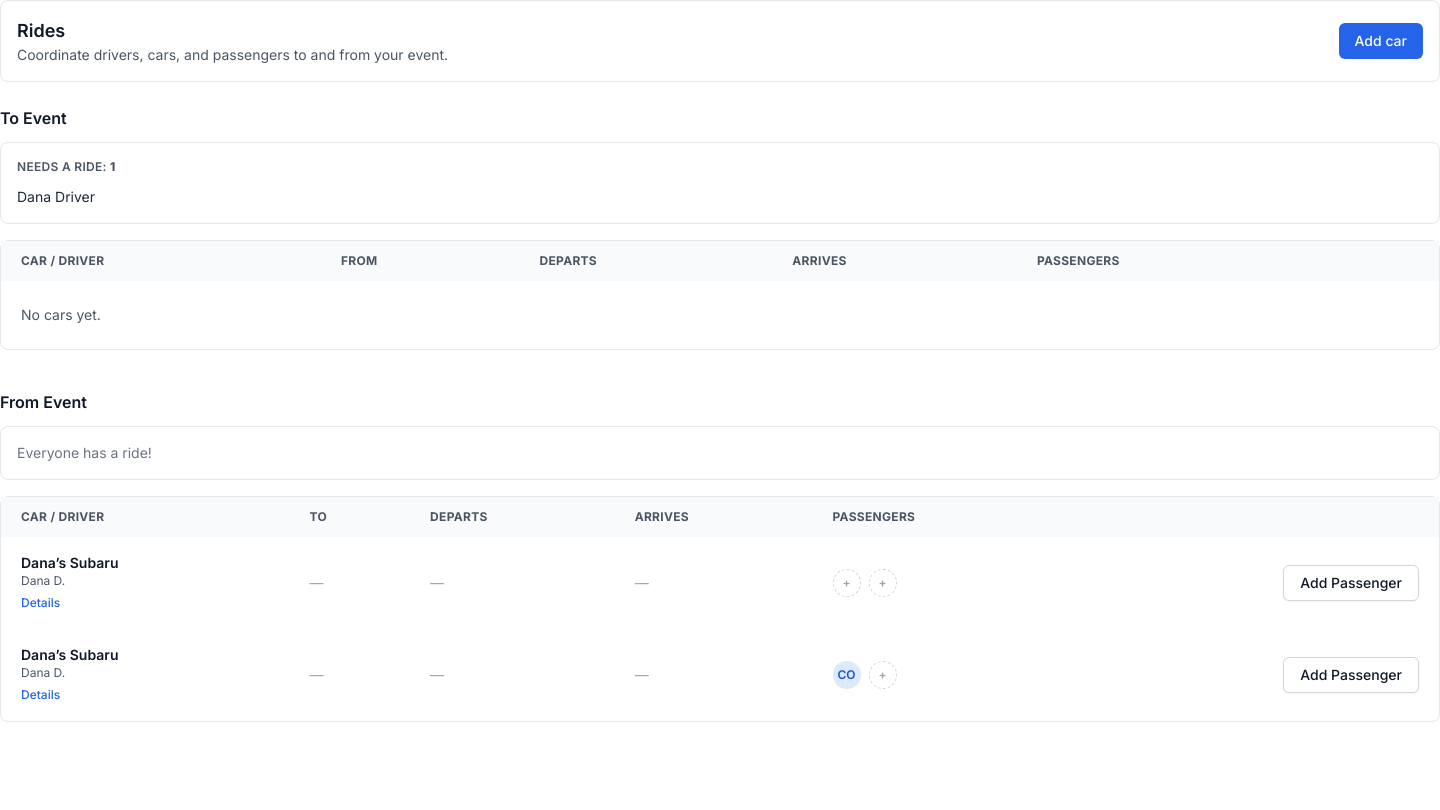
RidesBoard › shows upsert errors inside the add-car editor
The image size is (1440, 810).
expect the heading "To Event" is shown: met, box 0,106 -> 67,130
Click the button "Add car": point(1381, 41) 1338,23 -> 1423,59
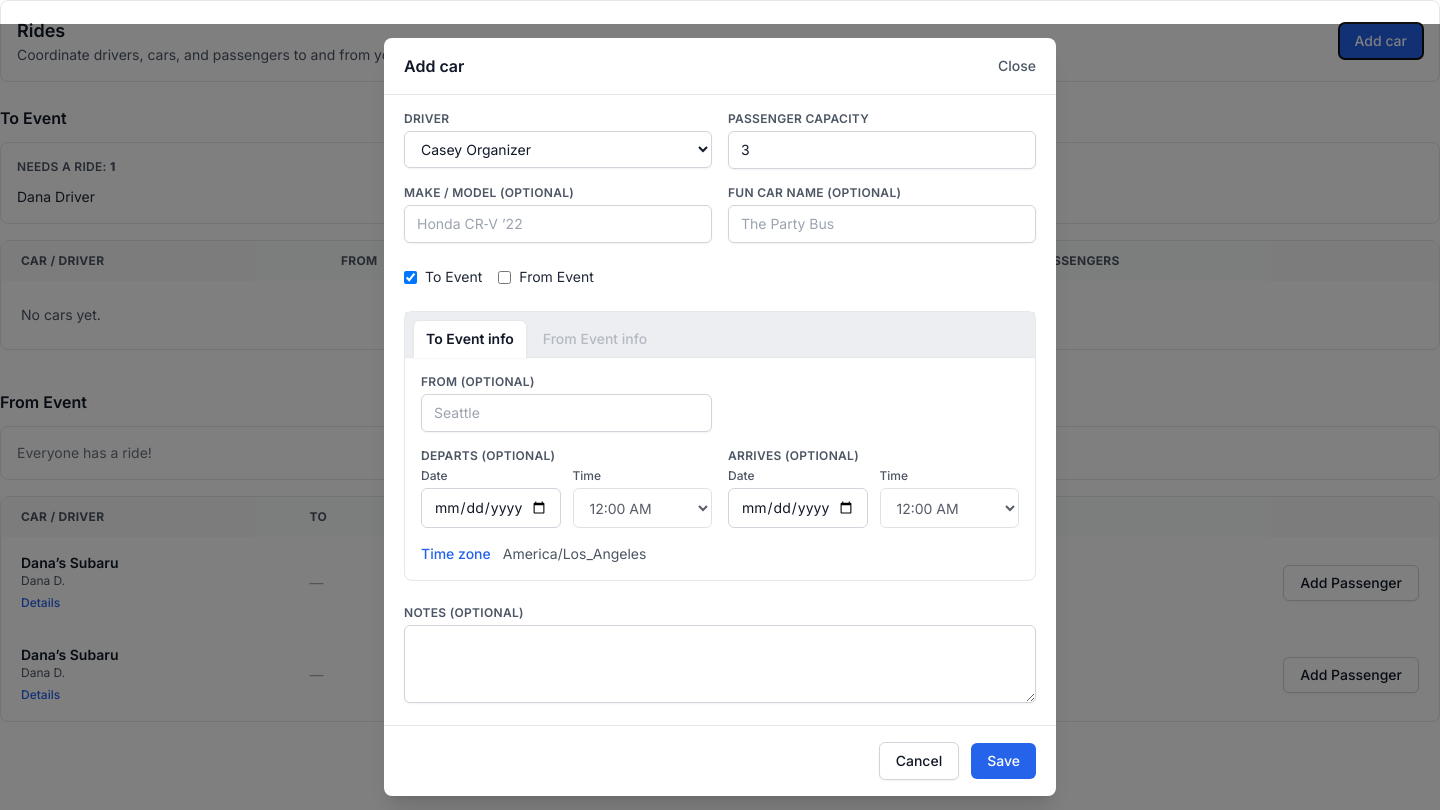
Click the button "Save": point(1004, 761) 971,743 -> 1036,779
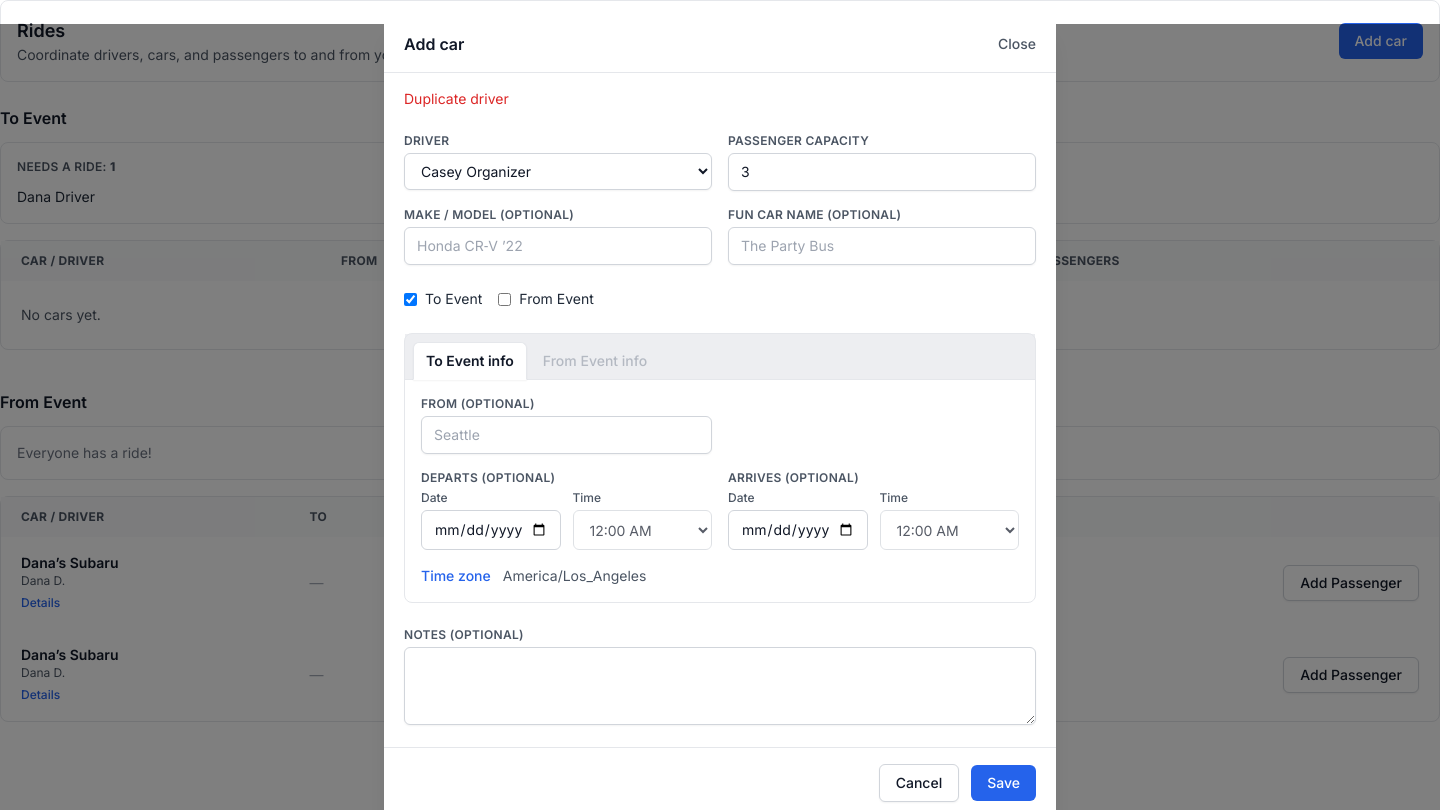
expect the text "Duplicate driver" is shown: met, box 404,90 -> 509,107
